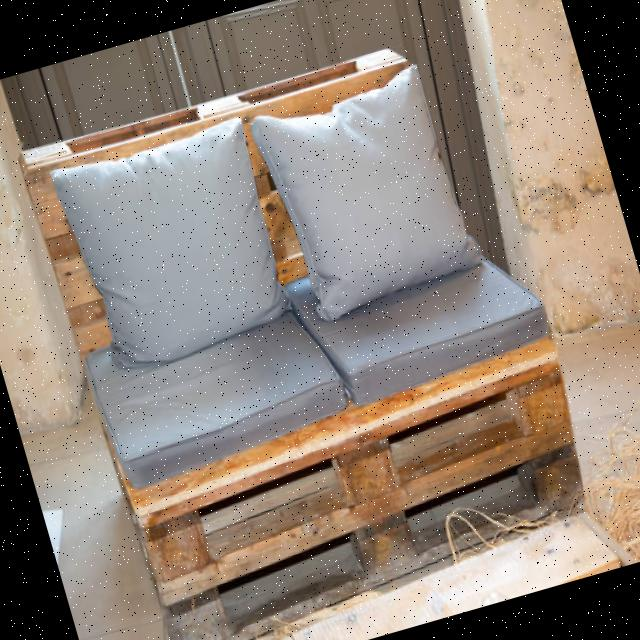Wooden-Pallets: (120, 368, 587, 600), (153, 454, 600, 636)
